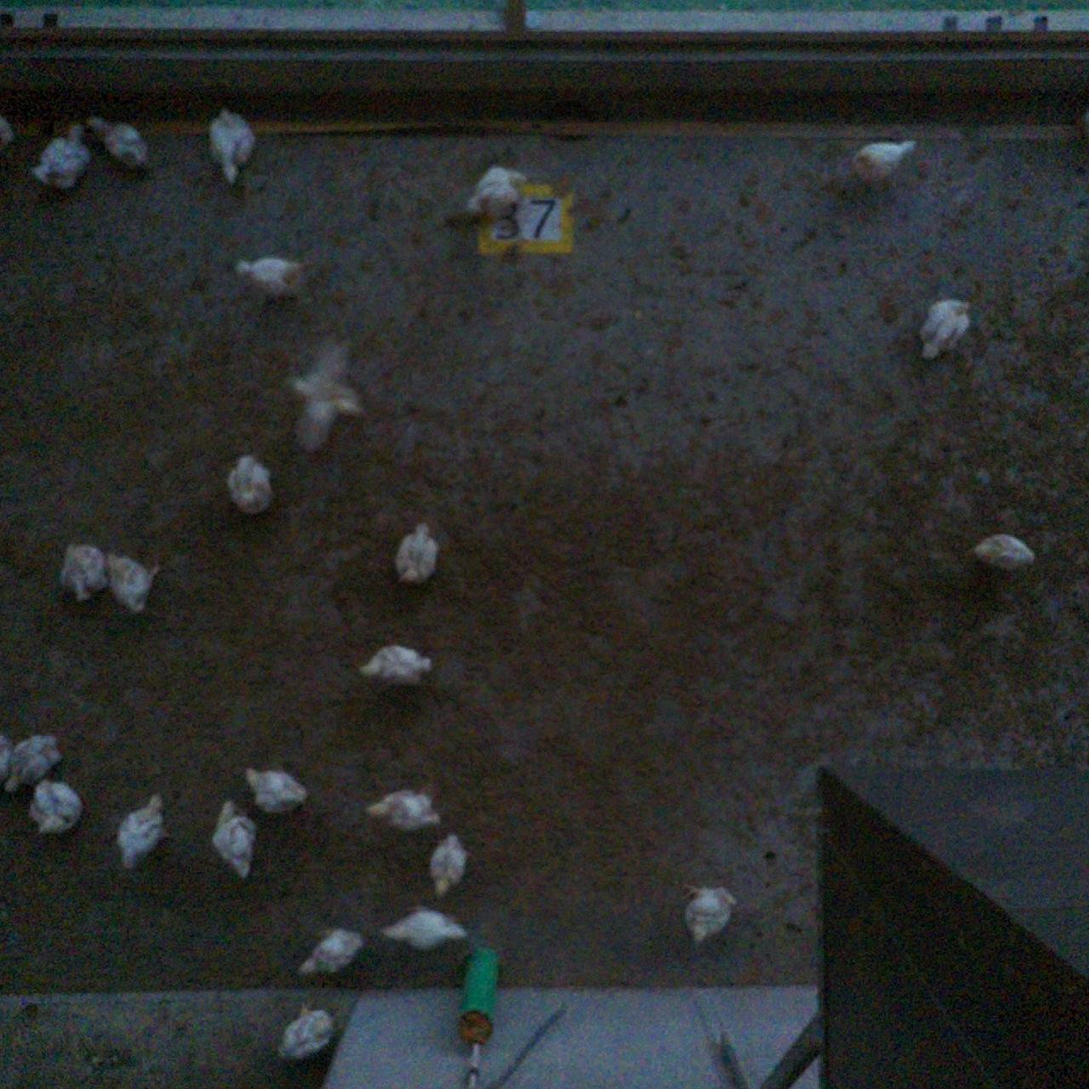chicken: (291, 343, 366, 455), (116, 792, 173, 868), (29, 123, 93, 187), (205, 108, 256, 183), (379, 908, 467, 951), (103, 551, 162, 613), (4, 735, 64, 793), (465, 164, 526, 221), (681, 881, 738, 942), (212, 801, 256, 878), (366, 789, 439, 834), (232, 256, 312, 296), (26, 779, 83, 835), (917, 298, 970, 358), (298, 928, 364, 976), (89, 112, 146, 167), (224, 455, 272, 516), (362, 644, 430, 687), (244, 767, 307, 813), (279, 1003, 331, 1058), (853, 140, 915, 185), (396, 522, 439, 584), (60, 544, 105, 602), (972, 533, 1035, 573), (428, 833, 466, 898), (0, 731, 17, 788)
